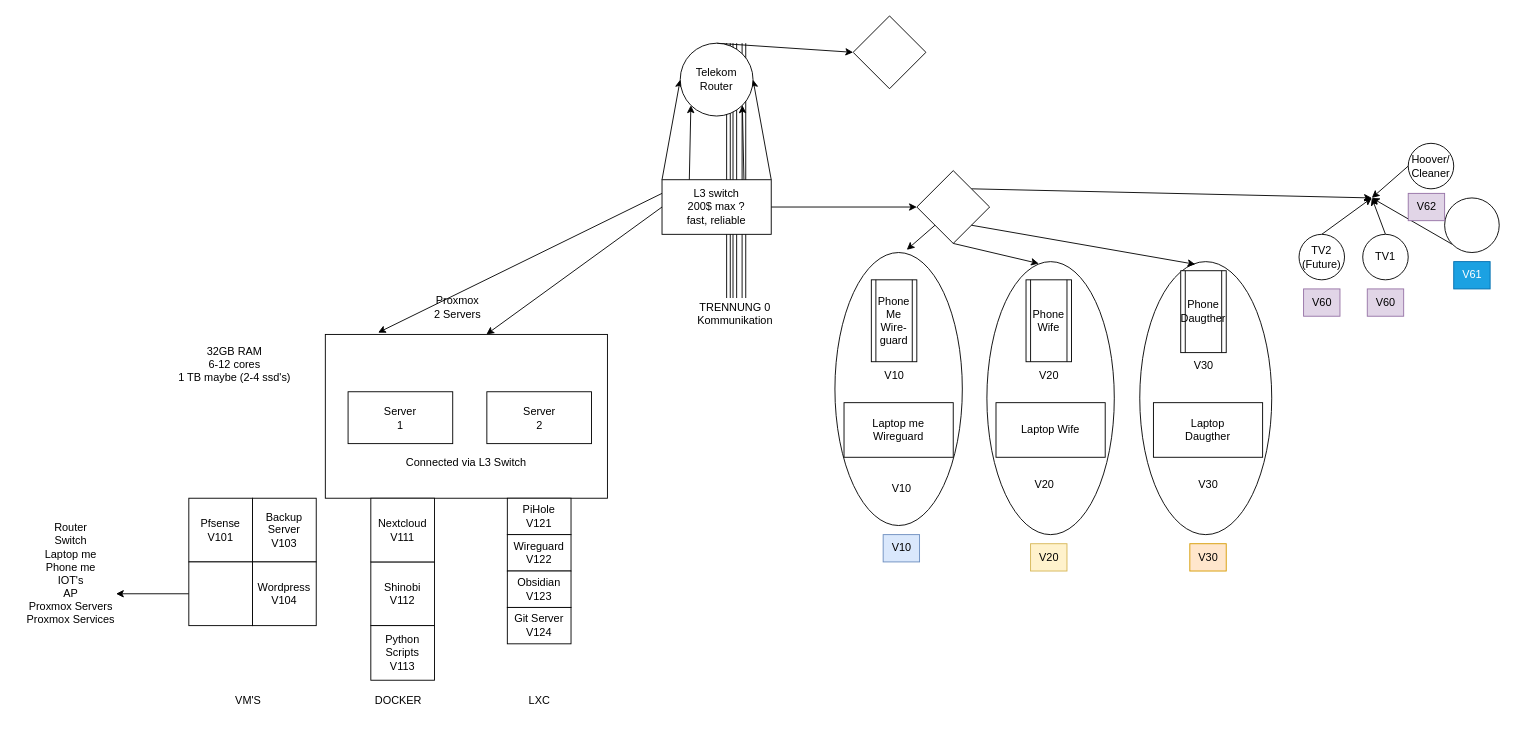
The diagram is 1515 pixels wide and 731 high, and some of its shapes have lost their labels. The shapes that lost their labels are listed below. From the top down, each one's centre as x and y in pixels, then its label:
At point 889,52: "ISP".
At point 953,206: "AP 802.1q".
At point 1471,225: "Cameras (Future)".
At point 220,593: "Grafana Loki V102".
